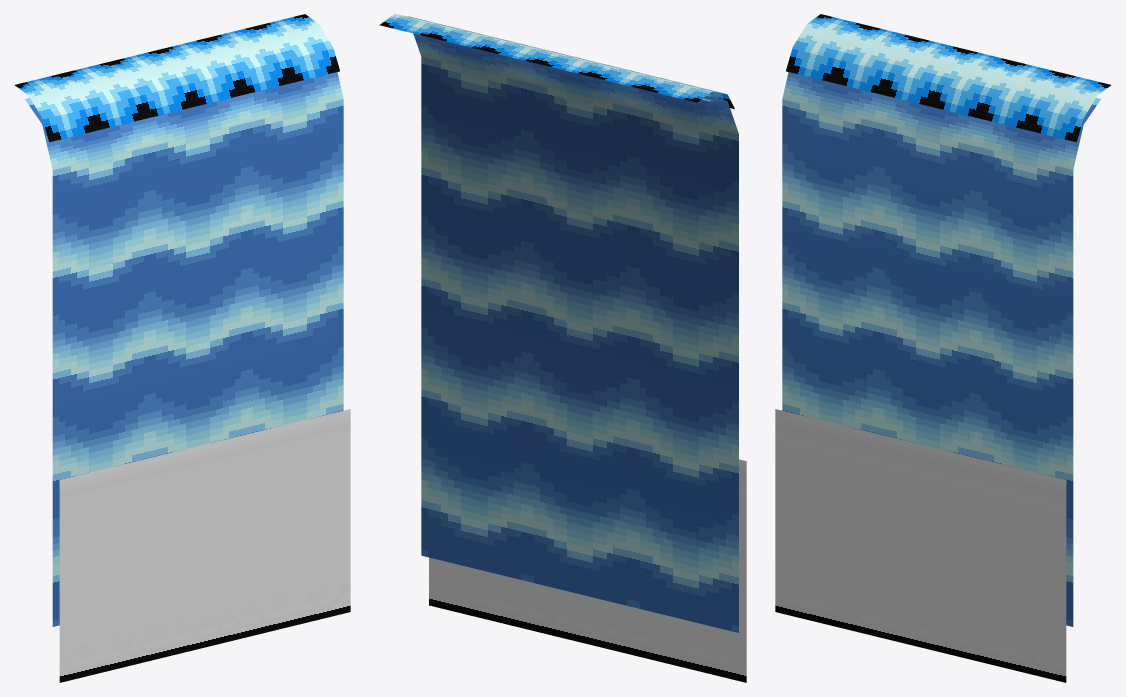
File: Waterfall 2.obj
3 views of the same model, side by side, from view 1: azimuth 30°, elevation 25°; view 2: azimuth 150°, elevation 25°; view 3: azimuth 330°, elevation 25° (orthographic). The views are drawn at different scales.
Parts seen in each view (by area): view 1: polygon1, polygon0, polygon2; view 2: polygon1, polygon0, polygon2; view 3: polygon1, polygon0, polygon2.
Part boxes in pixels (x1,y1,x2,y2): polygon1: (25, 72, 343, 626); polygon0: (59, 409, 350, 682); polygon2: (14, 14, 339, 142); polygon1: (413, 33, 738, 632); polygon0: (429, 459, 746, 682); polygon2: (379, 14, 734, 109); polygon1: (782, 72, 1100, 626); polygon0: (775, 409, 1066, 682); polygon2: (786, 14, 1111, 142).
Size of the model in its own units: 48 by 89 by 13.
Materials: 3 (3 with a texture image).
